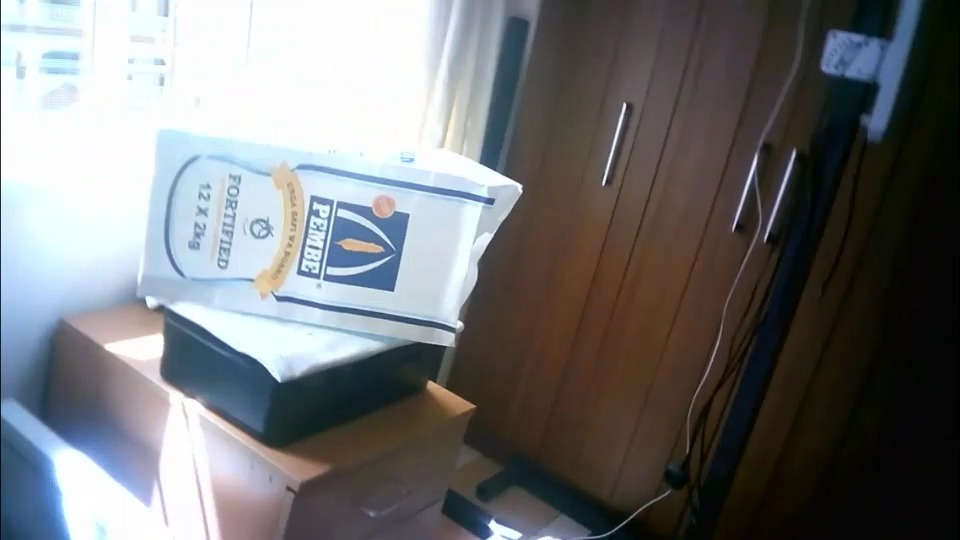wheat_flour_blue_label: (134, 126, 518, 344)
